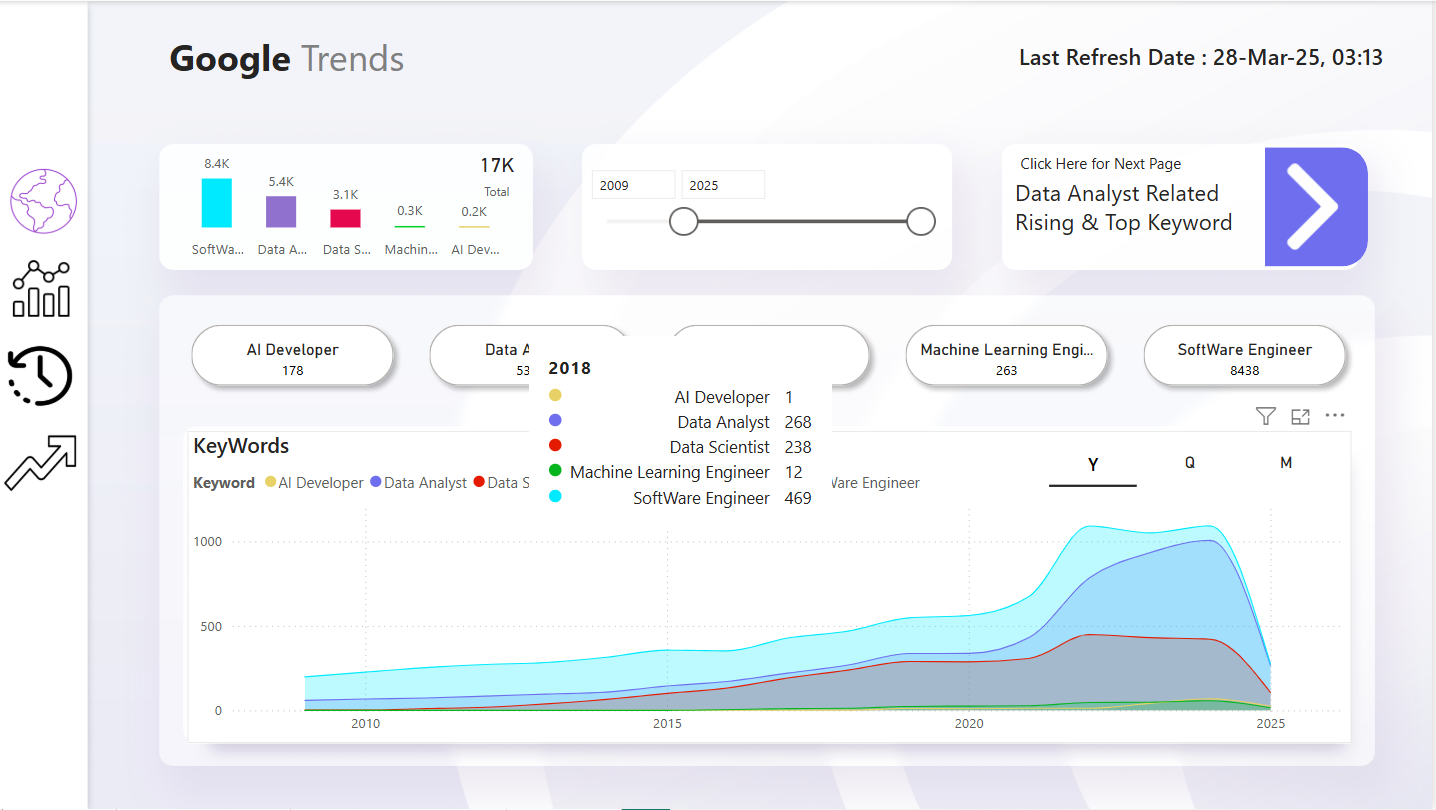

Layout of this report page (visuals, bound fields, positions):
{"tool":"powerbi","page":{"name":"Keywords by Date","canvas":[1280,720],"ordinal":1},"visuals":[{"type":"areaChart","title":"KeyWords","fields":{"Category":["Date_by_API.Year"],"Y":["Date_by_API.By_Date_Value"],"Series":["Date_by_API.Keyword"]},"box":[171.3,382.4,1036.3,278.7],"z":0},{"type":"advancedSlicerVisual","fields":{"Values":["Dynamic_Date.Dynamic_Date"]},"box":[933.8,382.4,261.8,55.5],"z":1000},{"type":"advancedSlicerVisual","fields":{"Values":["Date_by_API.Keyword"]},"box":[158,271.4,1064.1,88.1],"z":2000},{"type":"clusteredColumnChart","fields":{"Y":["Date_by_API.By_Date_Value"],"Category":["Date_by_API.Keyword"]},"box":[141.2,124.3,329.4,112.2],"z":3000},{"type":"card","fields":{"Values":["Date_by_API.By_Date_Value"]},"box":[415,124.3,63.9,56.7],"z":4000},{"type":"slicer","fields":{"Values":["Date_by_API.Year"]},"box":[518.8,139.9,326.9,96.5],"z":5000},{"type":"textbox","box":[908.4,130.3,201.5,29],"z":6000},{"type":"textbox","box":[150,23.3,248.8,55.8],"z":7000},{"type":"card","fields":{"Values":["Min(Refreash_Date.Refresh_Date)"]},"box":[898.8,32.6,352.3,37.4],"z":8000},{"type":"actionButton","box":[1130.4,130.3,91.7,106.2],"z":9000},{"type":"shape","box":[908.4,149.6,209.9,67.6],"z":10000},{"type":"image","box":[2.4,298,76,71.2],"z":11000},{"type":"image","box":[10.9,225.6,60.3,60.3],"z":12000},{"type":"image","box":[8.4,144.8,68.8,67.6],"z":13000},{"type":"image","box":[2.4,369.2,76,84.5],"z":14000}]}

Visuals, with their boxes on the page's 1280x720 design canvas (x1, y1, x2, y2). These are canvas units, not pixel positions in the 1436x810 screenshot, which may show the page scaled, cropped or inside an application window:
"KeyWords" areaChart: [left=171, top=382, right=1208, bottom=661]
advancedSlicerVisual - Dynamic_Date.Dynamic_Date: [left=934, top=382, right=1196, bottom=438]
advancedSlicerVisual - Date_by_API.Keyword: [left=158, top=271, right=1222, bottom=360]
clusteredColumnChart - Date_by_API.By_Date_Value x Date_by_API.Keyword: [left=141, top=124, right=471, bottom=236]
card - Date_by_API.By_Date_Value: [left=415, top=124, right=479, bottom=181]
slicer - Date_by_API.Year: [left=519, top=140, right=846, bottom=236]
textbox: [left=908, top=130, right=1110, bottom=159]
textbox: [left=150, top=23, right=399, bottom=79]
card - Min(Refreash_Date.Refresh_Date): [left=899, top=33, right=1251, bottom=70]
actionButton: [left=1130, top=130, right=1222, bottom=236]
shape: [left=908, top=150, right=1118, bottom=217]
image: [left=2, top=298, right=78, bottom=369]
image: [left=11, top=226, right=71, bottom=286]
image: [left=8, top=145, right=77, bottom=212]
image: [left=2, top=369, right=78, bottom=454]
